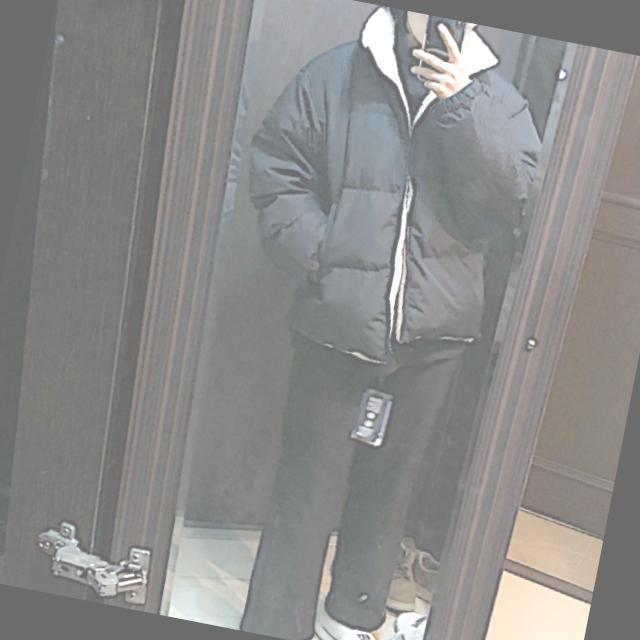padding: (216, 0, 558, 383)
trainingpants: (237, 300, 453, 640)
